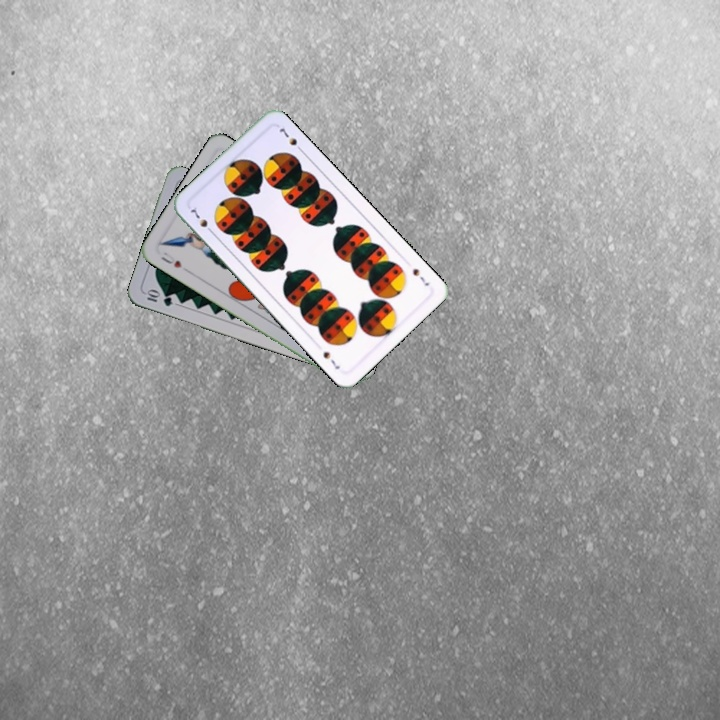G10: (141, 286, 175, 309)
HU: (157, 248, 184, 271)
S7: (186, 203, 217, 237), (409, 264, 432, 289)
